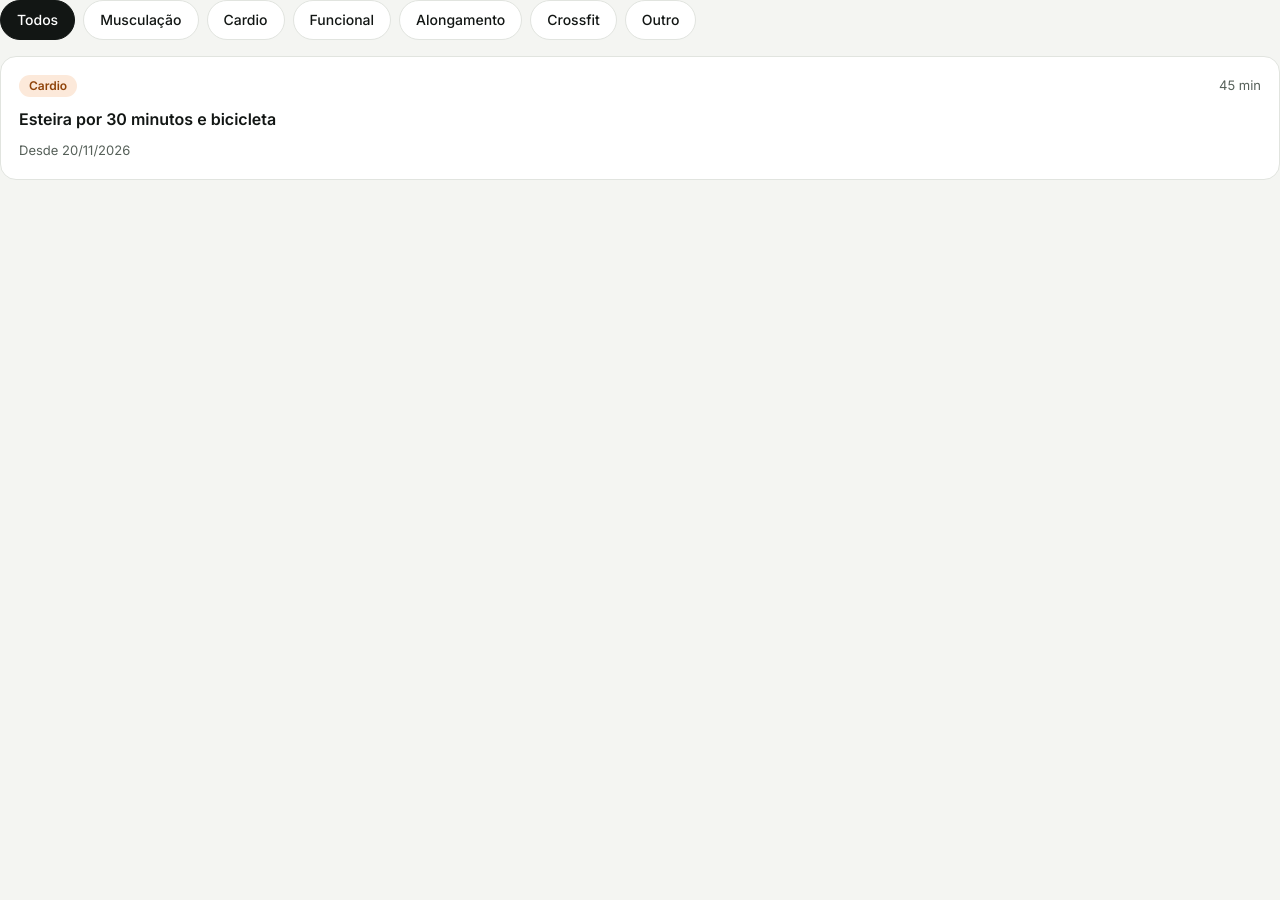
Test: MeusTreinos › abre o detalhe do treino e fecha em Fechar
Click the 8th button at [640, 118], box top-left (0, 56), bottom-right (1279, 180)
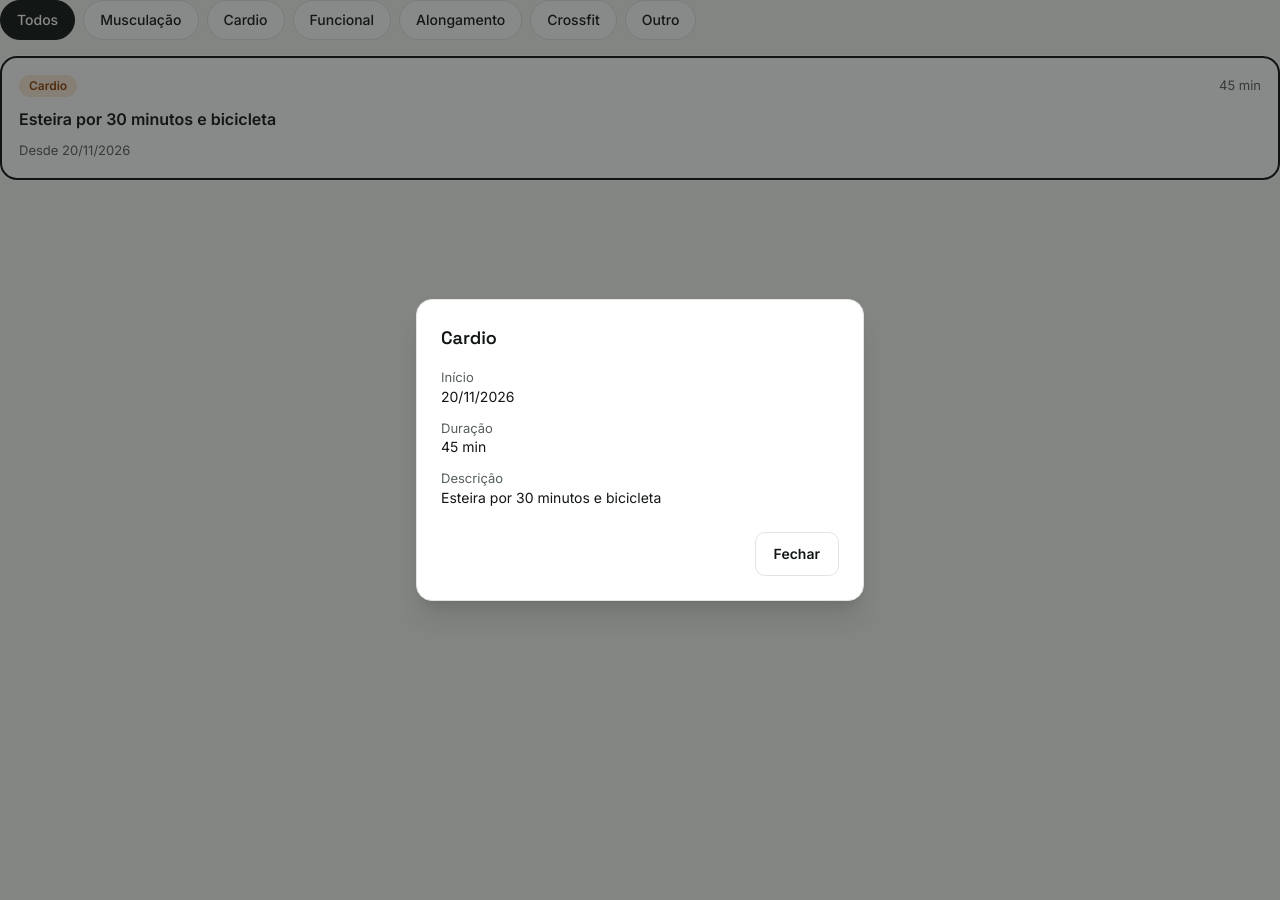
expect the dialog "Cardio" shows "Esteira por 30 minutos e bicicleta": met, box top-left (441, 489), bottom-right (661, 506)
expect the dialog "Cardio" shows "45 min": met, box top-left (441, 438), bottom-right (486, 455)
expect the dialog "Cardio" shows "20/11/2026": met, box top-left (441, 388), bottom-right (514, 405)
Click the button "Fechar" at [797, 554], box top-left (755, 532), bottom-right (839, 576)
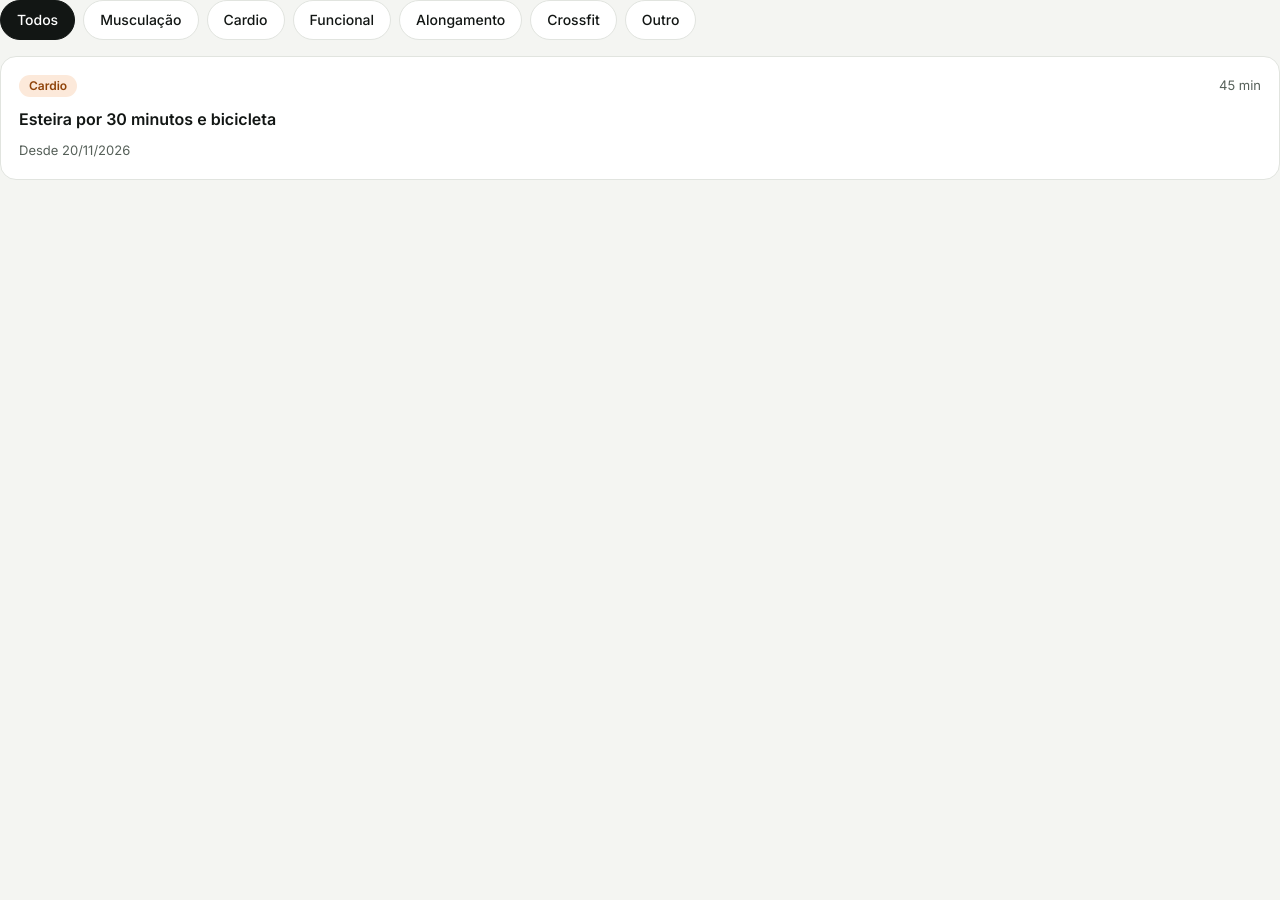
expect the dialog is gone: met
